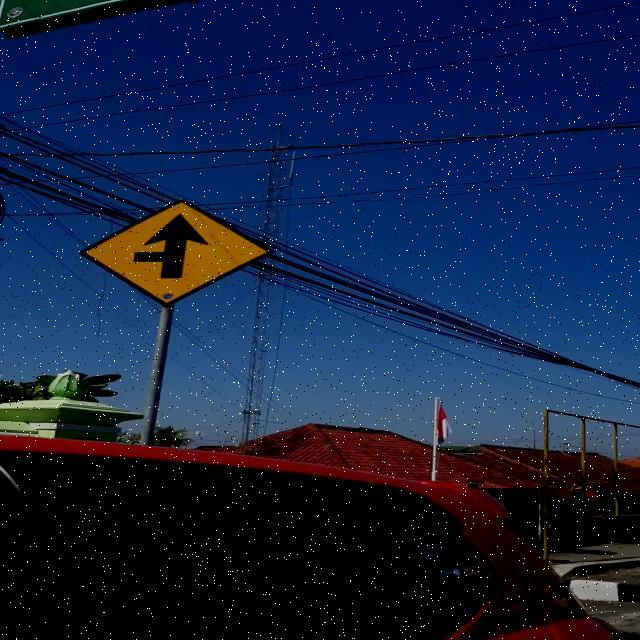Persimpangan 3 Prioritas Kiri: (79, 198, 274, 306)
